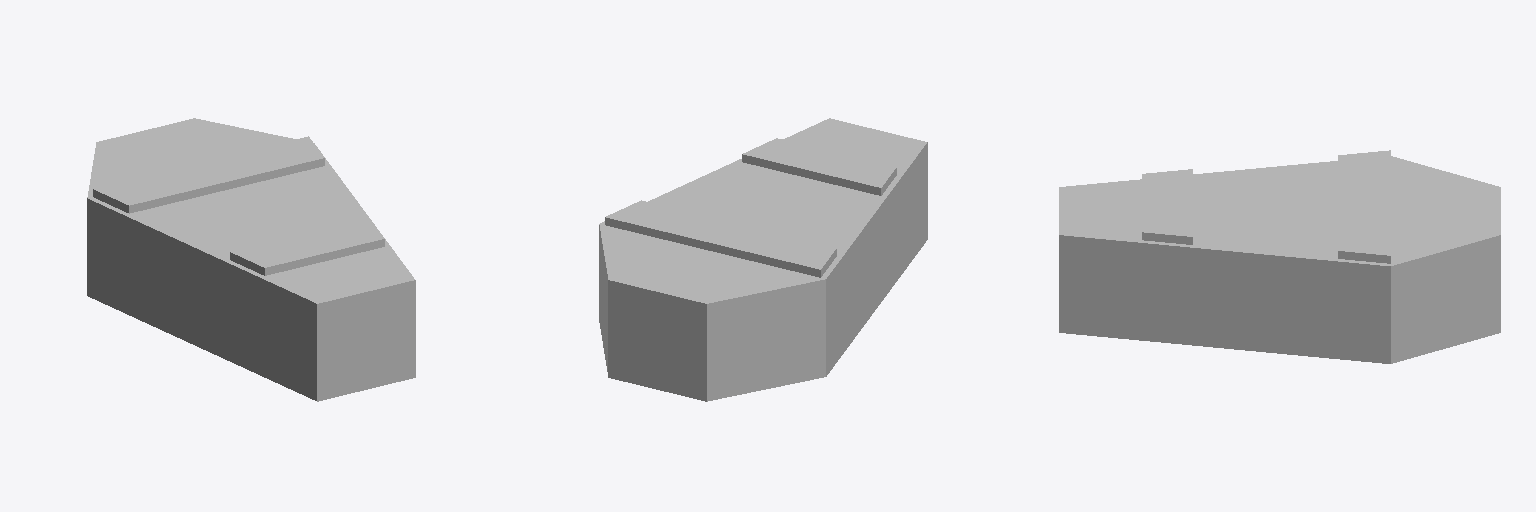
The model's file is coffin.obj.
3 views of the same model, side by side, from view 1: azimuth 30°, elevation 25°; view 2: azimuth 150°, elevation 25°; view 3: azimuth 270°, elevation 25° (orthographic).
Parts seen in each view (by area): view 1: lid, coffin; view 2: lid, coffin; view 3: lid, coffin.
Boxes of the visible parts, x1,y1,x2,y2 form: lid: [87, 118, 415, 319]; coffin: [87, 214, 415, 401]; lid: [599, 118, 927, 319]; coffin: [599, 158, 927, 401]; lid: [1059, 150, 1500, 281]; coffin: [1059, 251, 1500, 363].
Bounding box in the file's own units: 0.5928 × 0.2642 × 1.